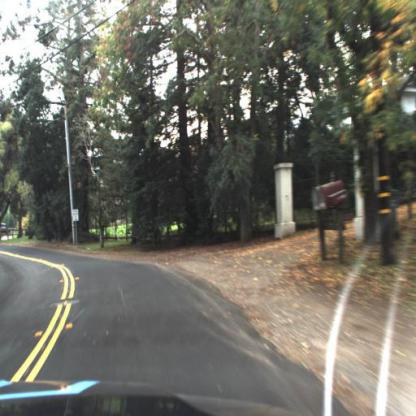car: (1, 221, 11, 237)
